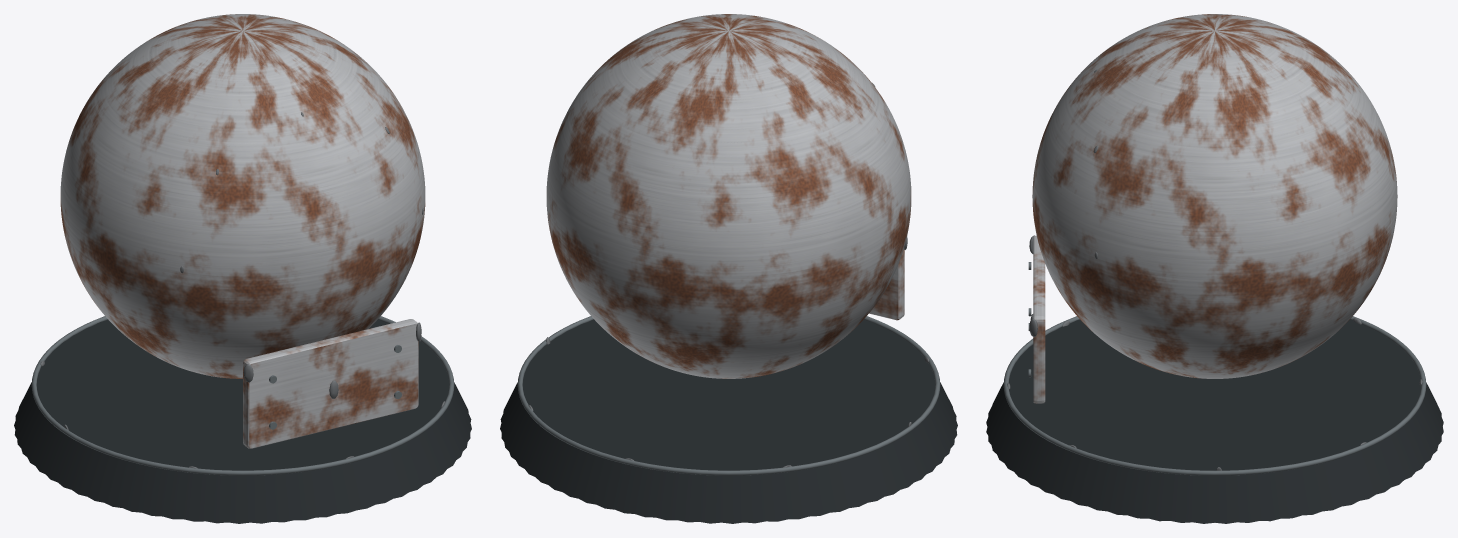
3 renders of one model, left to right at view 1: azimuth 30°, elevation 25°; view 2: azimuth 150°, elevation 25°; view 3: azimuth 270°, elevation 25°, orthographic.
Visible parts, largest first — view 1: surface specimen, neutral specimen stand, specimen edge; view 2: surface specimen, neutral specimen stand, specimen edge; view 3: surface specimen, neutral specimen stand, specimen edge.
Boxes of the visible parts, x1,y1,x2,y2 form: surface specimen: [60, 14, 425, 448]; neutral specimen stand: [14, 319, 471, 523]; specimen edge: [31, 316, 454, 475]; surface specimen: [546, 14, 911, 378]; neutral specimen stand: [500, 319, 957, 523]; specimen edge: [517, 316, 940, 475]; surface specimen: [1032, 14, 1397, 403]; neutral specimen stand: [986, 319, 1443, 523]; specimen edge: [1003, 262, 1426, 475].
Bounding box in the file's own units: 0.539 × 0.515 × 0.539.
Materials: 4 (1 with a texture image).
